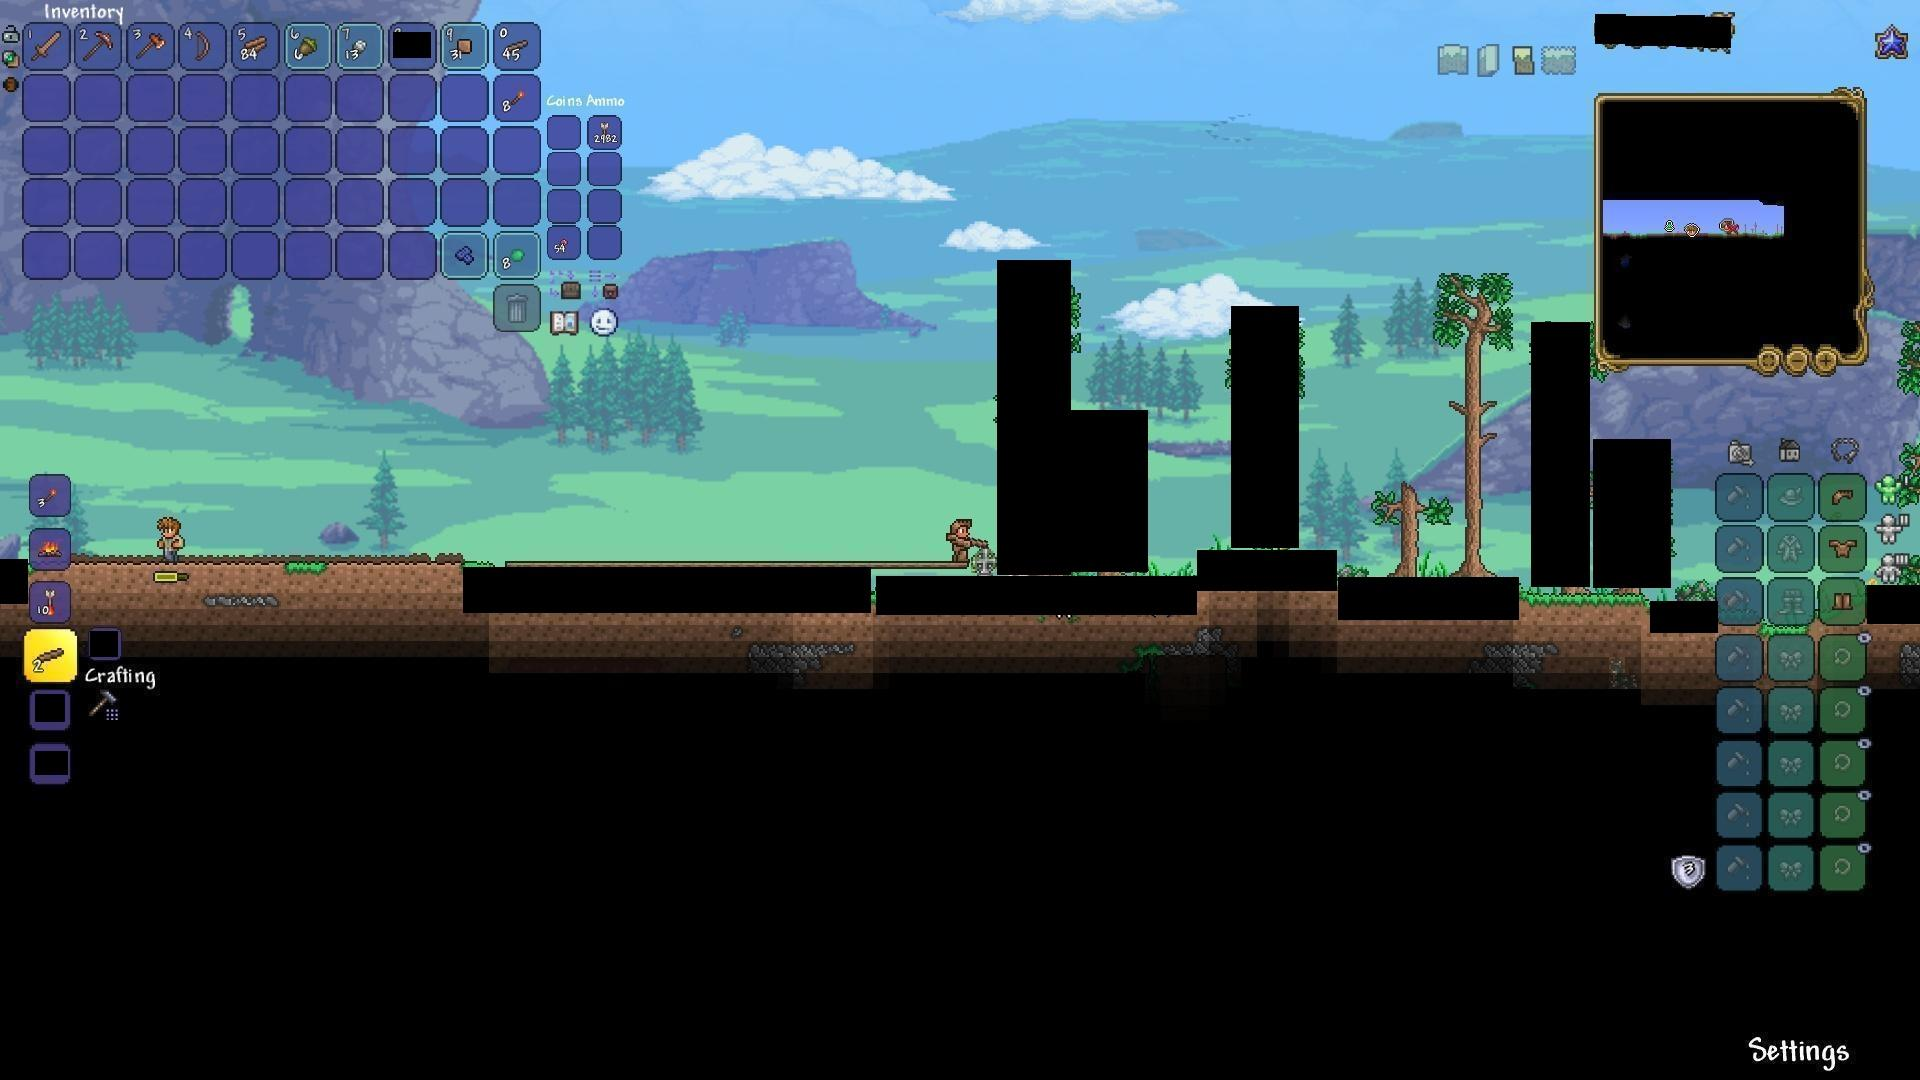breastplate: (1830, 537, 1859, 558)
dirt: (1526, 589, 1651, 628), (278, 556, 332, 592)
helmet: (1828, 483, 1858, 512)
legs: (1830, 585, 1855, 615)
tree: (1443, 264, 1505, 574), (1364, 473, 1431, 574)
wood: (243, 34, 270, 61)
